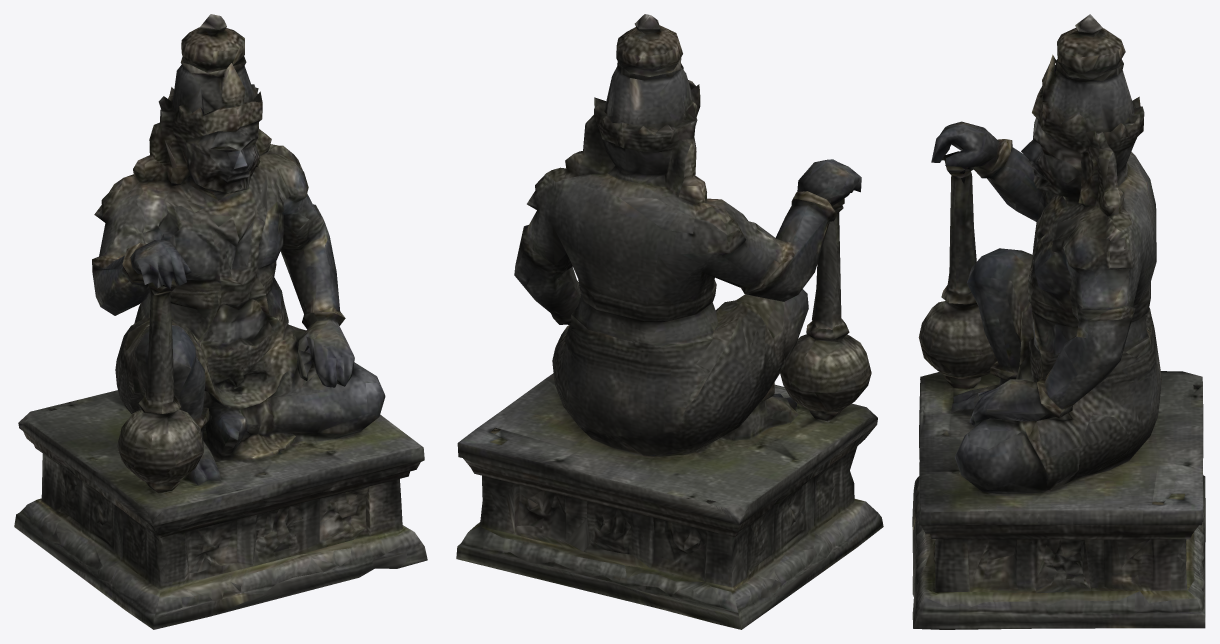
The model's file is rakshasa-statue.glb.
3 renders of one model, left to right at view 1: azimuth 30°, elevation 25°; view 2: azimuth 150°, elevation 25°; view 3: azimuth 270°, elevation 25°, orthographic. The views are drawn at different scales.
Parts seen in each view (by area): view 1: rakshasa-statue; view 2: rakshasa-statue; view 3: rakshasa-statue.
Boxes of the visible parts, x1,y1,x2,y2 form: rakshasa-statue: [14, 14, 427, 629]; rakshasa-statue: [456, 14, 883, 629]; rakshasa-statue: [912, 14, 1205, 629].
Bounding box in the file's own units: 0.3498 × 0.6206 × 0.3002.
Materials: 1 (1 with a texture image).
